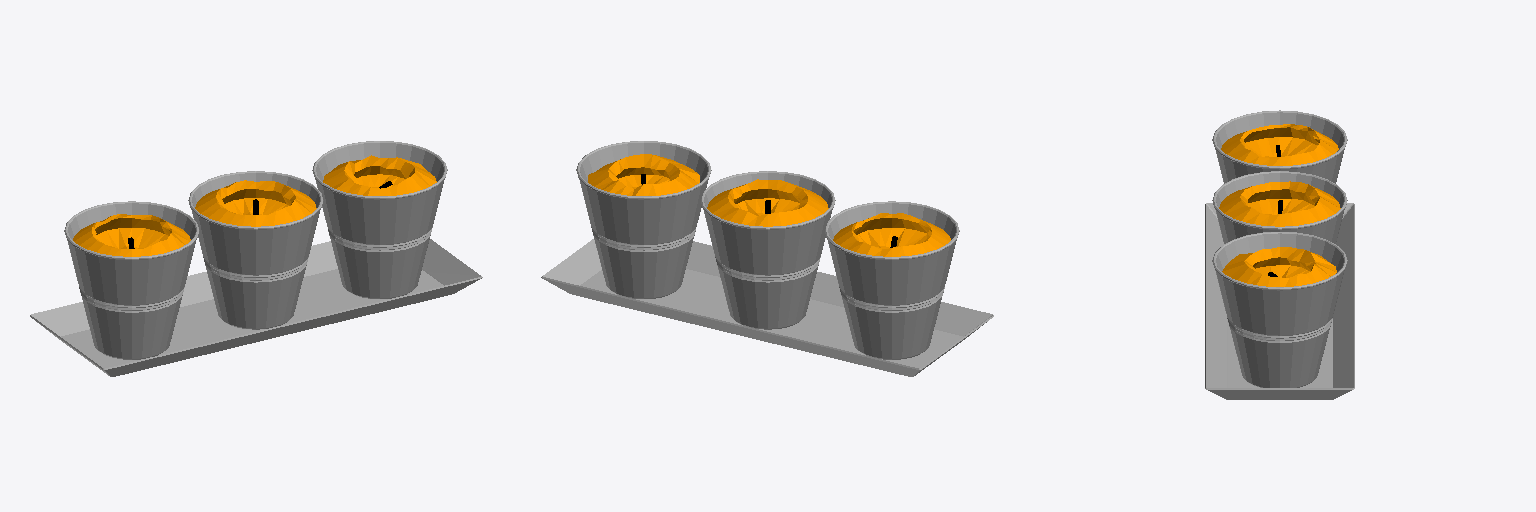
File: candleTriple_obj.obj
3 views of the same model, side by side, from view 1: azimuth 30°, elevation 25°; view 2: azimuth 150°, elevation 25°; view 3: azimuth 270°, elevation 25° (orthographic).
Parts seen in each view (by area): view 1: candleTripleCups, candleTriplePlate, candleTripleWax; view 2: candleTripleCups, candleTriplePlate, candleTripleWax; view 3: candleTripleCups, candleTripleWax, candleTriplePlate.
Boxes of the visible parts, x1,y1,x2,y2 form: candleTripleCups: [64, 141, 447, 359]; candleTriplePlate: [30, 239, 482, 376]; candleTripleWax: [73, 155, 436, 256]; candleTripleCups: [576, 141, 959, 359]; candleTriplePlate: [541, 239, 993, 376]; candleTripleWax: [588, 154, 950, 256]; candleTripleCups: [1212, 110, 1347, 387]; candleTripleWax: [1219, 124, 1340, 286]; candleTriplePlate: [1205, 203, 1354, 399].
Bounding box in the file's own units: 20.5 × 6.23 × 7.